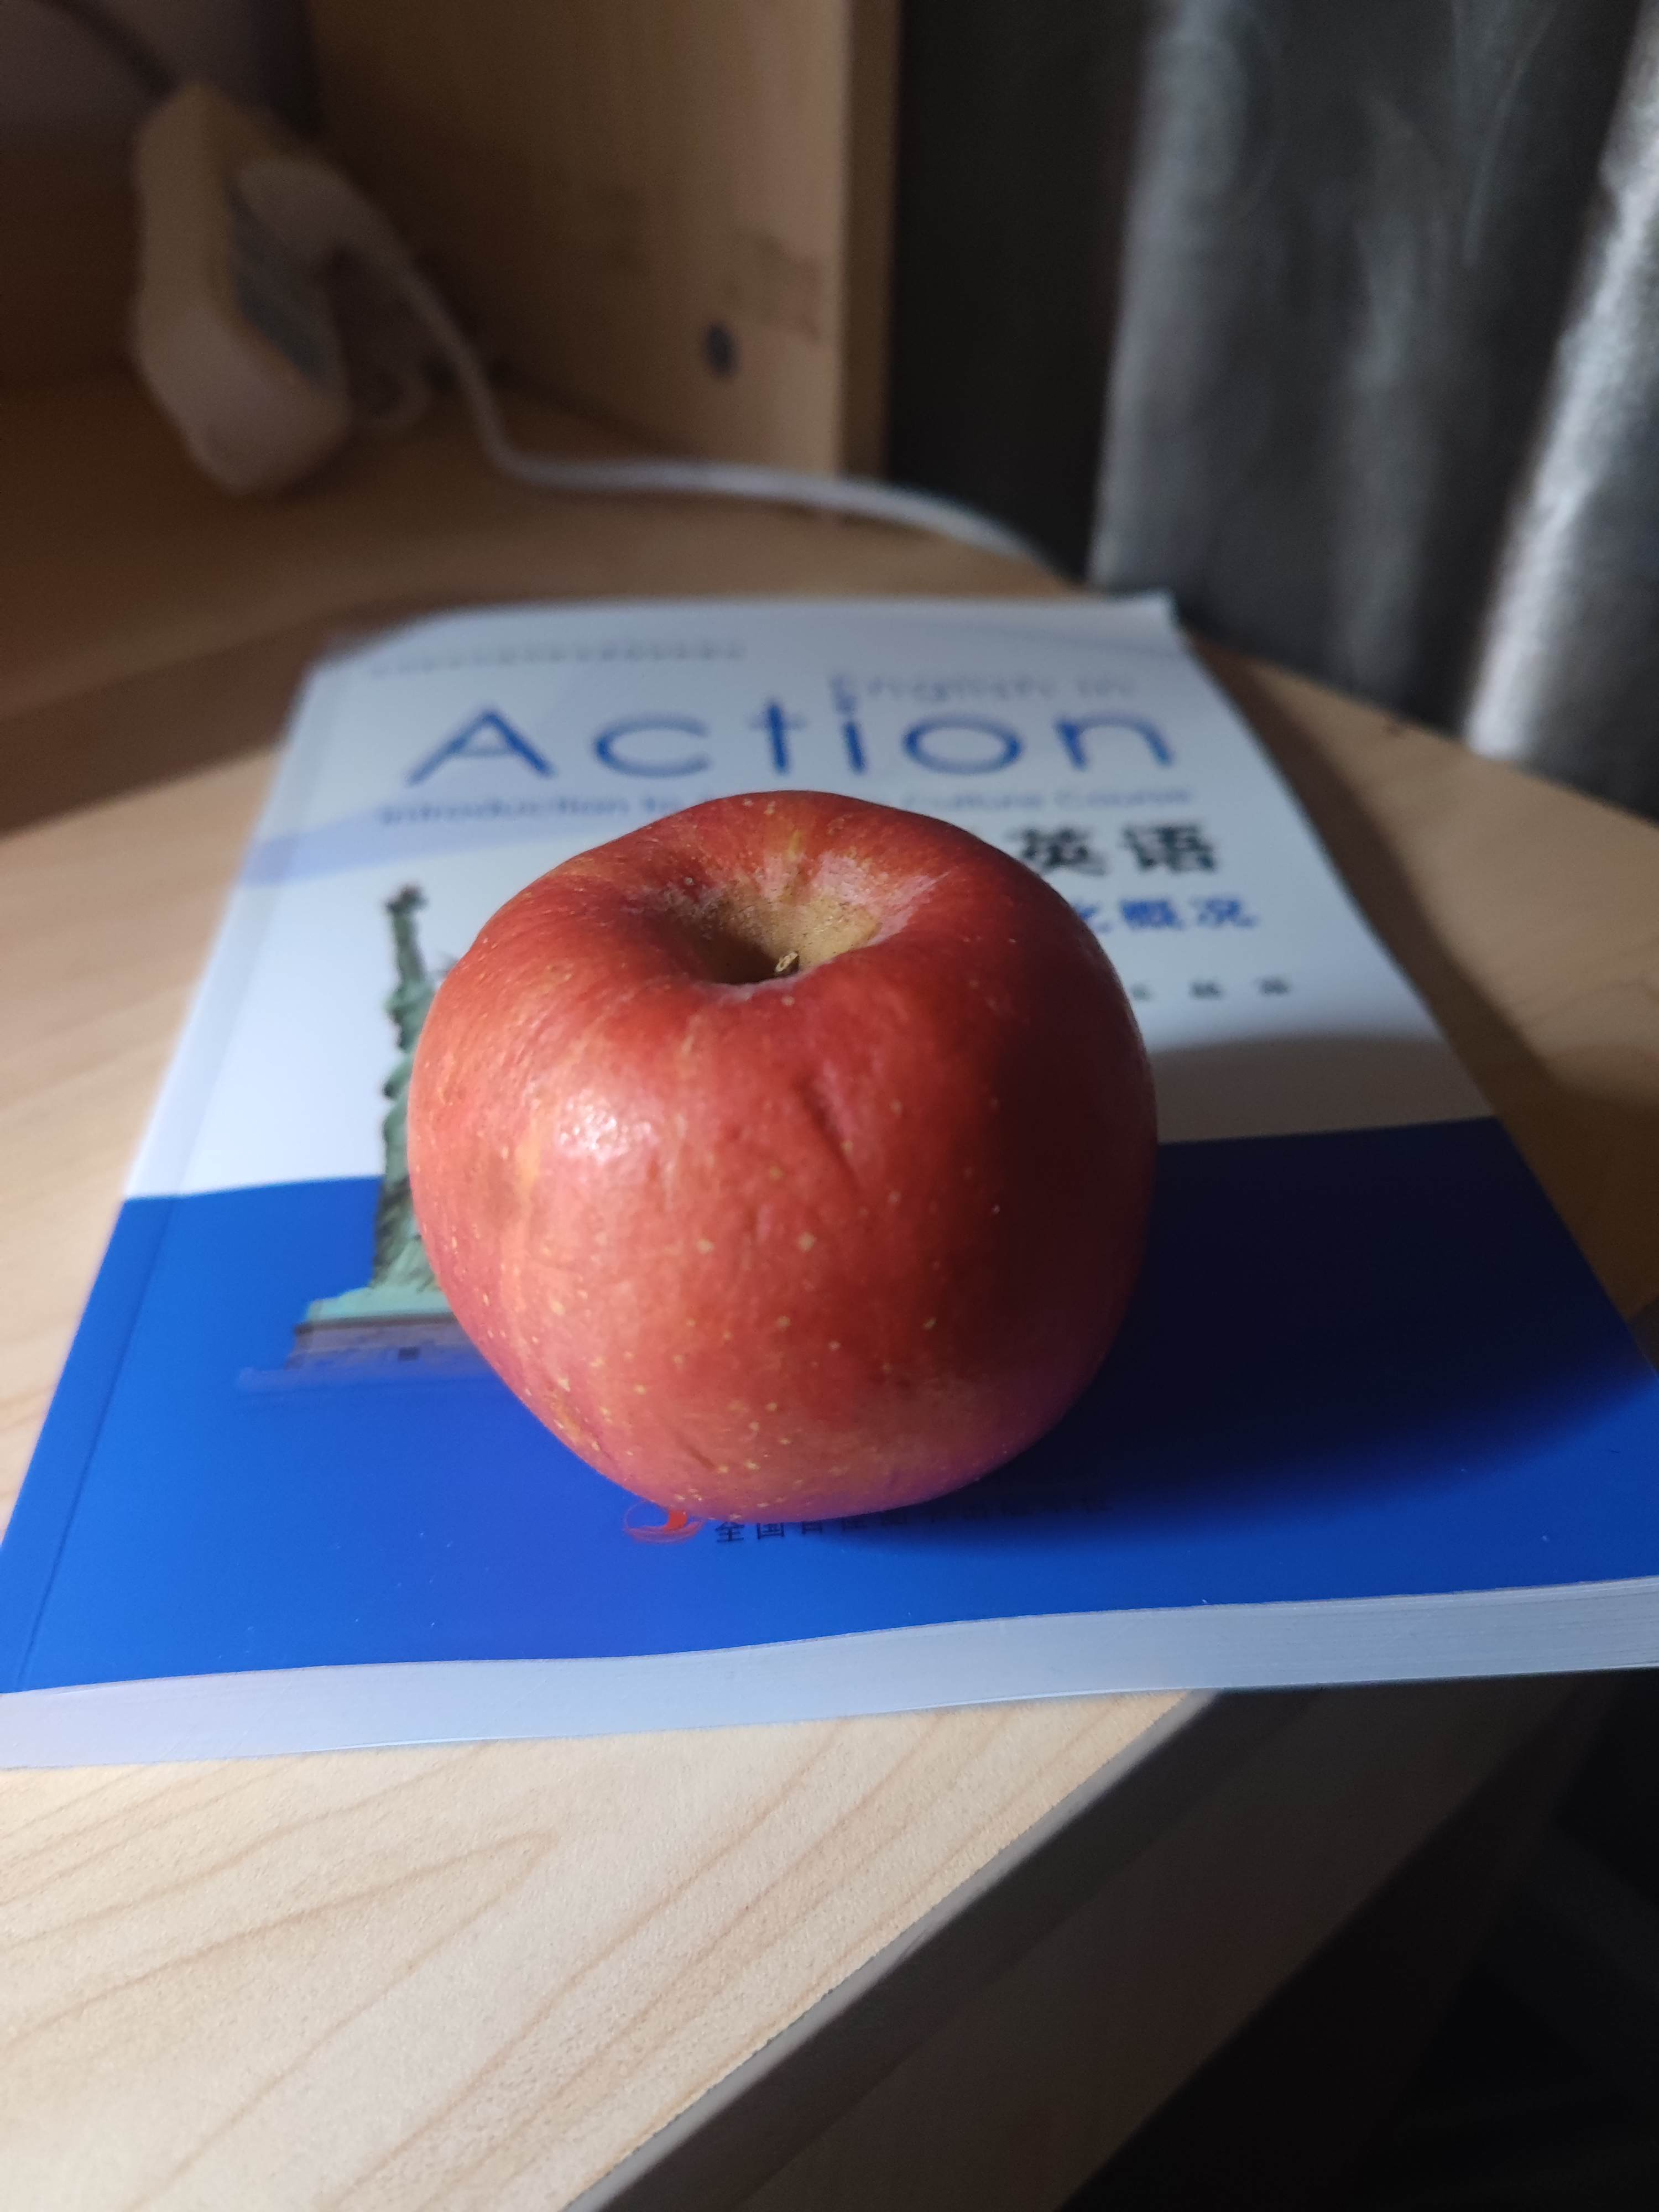apple: (404, 787, 1169, 1517)
